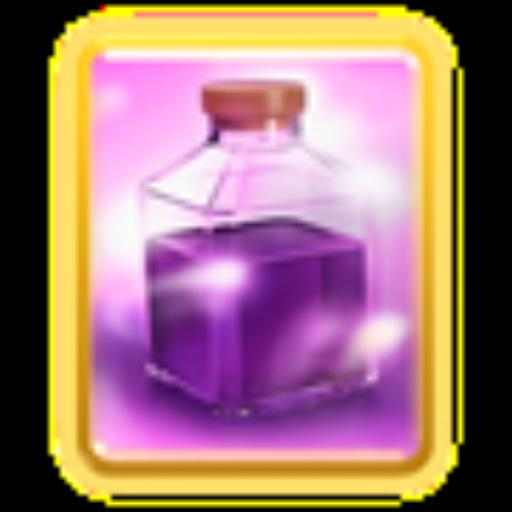rage: (78, 57, 424, 461)
